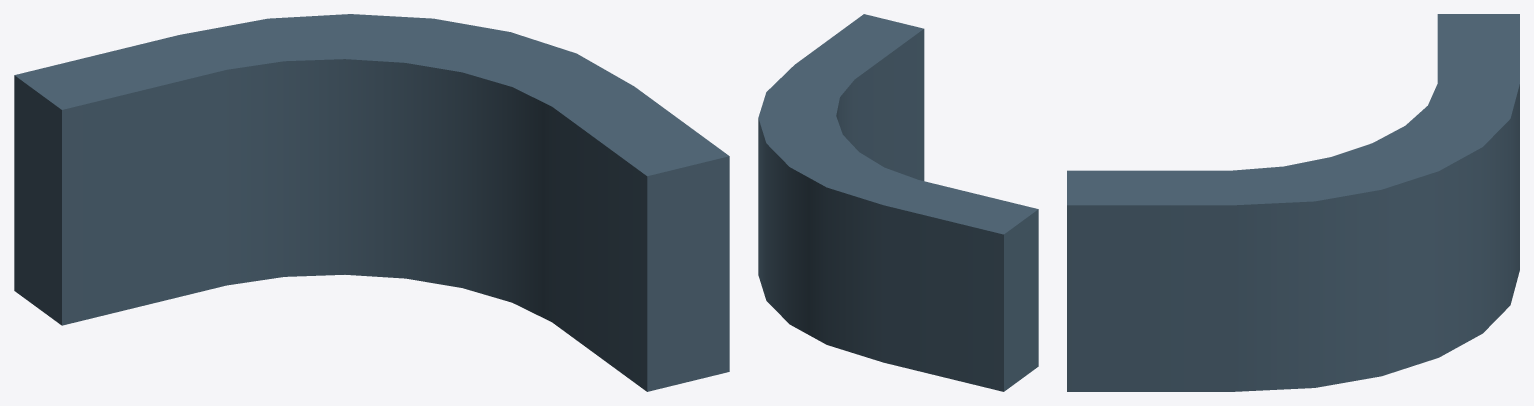
Rendered from W1_WallCorner_Round1A_Top.fbx.
3 renders of one model, left to right at view 1: azimuth 30°, elevation 25°; view 2: azimuth 150°, elevation 25°; view 3: azimuth 270°, elevation 25°, orthographic. The views are drawn at different scales.
Parts seen in each view (by area): view 1: W1_WallCorner_Round1A_Top.001; view 2: W1_WallCorner_Round1A_Top.001; view 3: W1_WallCorner_Round1A_Top.001.
Boxes of the visible parts, x1,y1,x2,y2 form: W1_WallCorner_Round1A_Top.001: [14, 14, 729, 391]; W1_WallCorner_Round1A_Top.001: [758, 14, 1038, 391]; W1_WallCorner_Round1A_Top.001: [1067, 14, 1519, 391].
Size of the model in its own units: 1.1 by 0.5 by 1.1.
